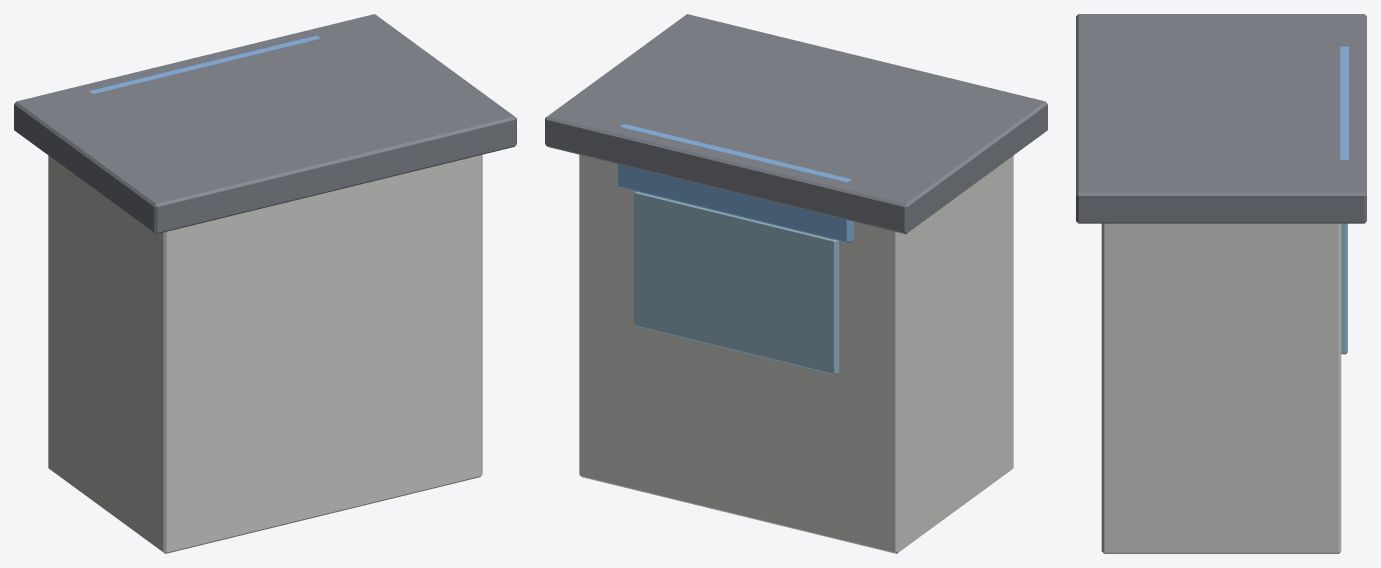
Rendered from 街道_报刊亭_01.fbx.
The picture shows the model from 3 angles, left to right: view 1: azimuth 30°, elevation 25°; view 2: azimuth 150°, elevation 25°; view 3: azimuth 270°, elevation 25°; orthographic projection. The views are drawn at different scales.
Visible parts, largest first — view 1: 亭体, 顶棚.001, 招牌; view 2: 亭体, 顶棚.001, 窗口, 招牌; view 3: 亭体, 顶棚.001, 招牌, 窗口.
Boxes of the visible parts, x1=… form: 亭体: x1=48, y1=154, x2=482, y2=553; 顶棚.001: x1=14, y1=14, x2=516, y2=234; 招牌: x1=89, y1=35, x2=320, y2=93; 亭体: x1=579, y1=154, x2=1013, y2=553; 顶棚.001: x1=545, y1=14, x2=1047, y2=234; 窗口: x1=634, y1=191, x2=839, y2=374; 招牌: x1=618, y1=124, x2=853, y2=242; 亭体: x1=1101, y1=223, x2=1341, y2=553; 顶棚.001: x1=1076, y1=14, x2=1366, y2=223; 招牌: x1=1340, y1=46, x2=1348, y2=159; 窗口: x1=1341, y1=223, x2=1347, y2=354.
Size of the model in its own units: 250 by 240 by 170.
